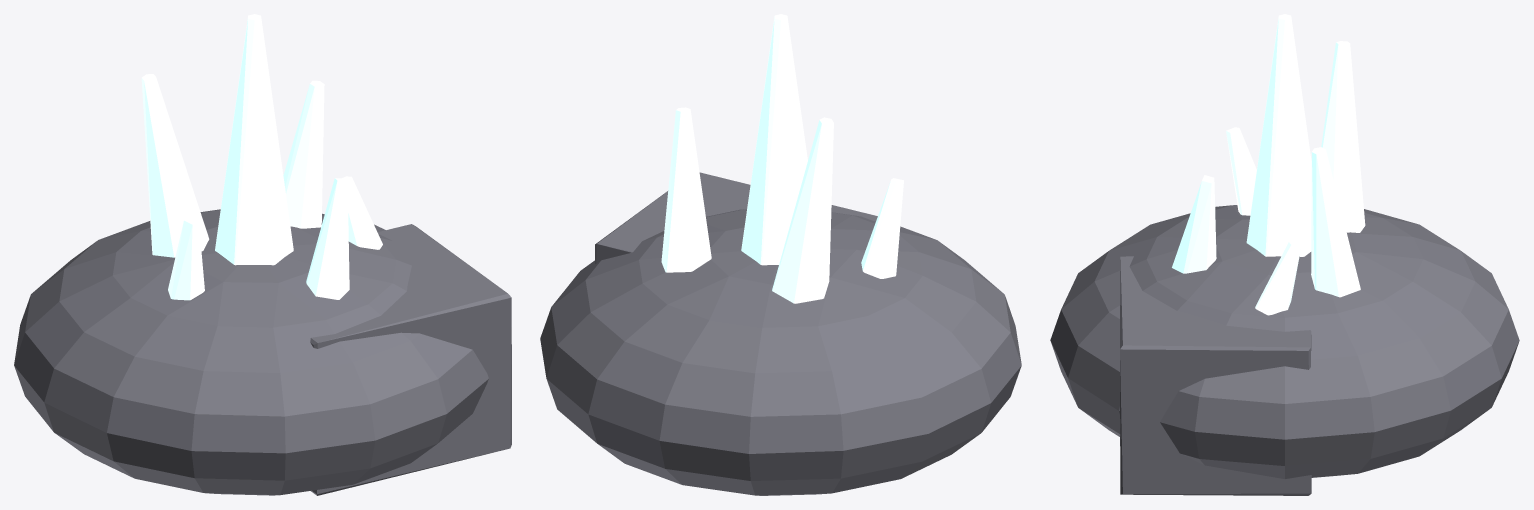
The model's file is cave_crystal.glb.
The picture shows the model from 3 angles, left to right: view 1: azimuth 30°, elevation 25°; view 2: azimuth 150°, elevation 25°; view 3: azimuth 270°, elevation 25°; orthographic projection. The views are drawn at different scales.
Visible parts, largest first — view 1: cave_crystal; view 2: cave_crystal; view 3: cave_crystal.
Part boxes in pixels (x1,y1,x2,y2): cave_crystal: (14, 14, 511, 495); cave_crystal: (540, 14, 1021, 495); cave_crystal: (1050, 14, 1519, 495).
Bounding box in the file's own units: 0.678 × 0.6755 × 0.678.
